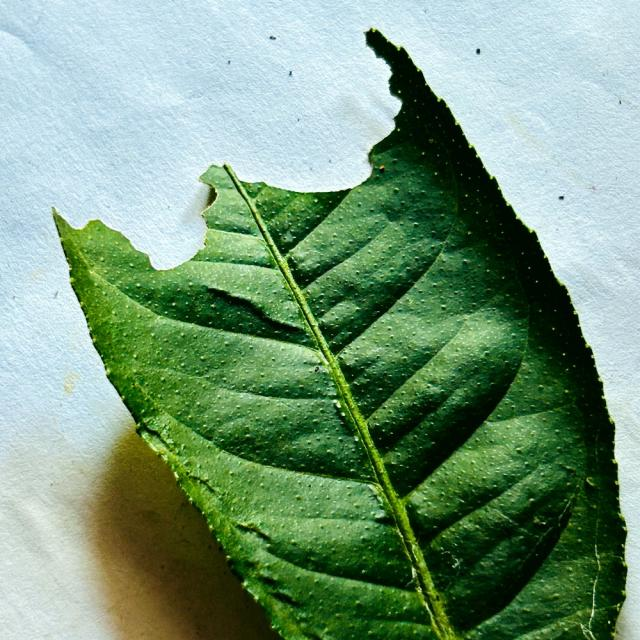Deficiency Leaf: (49, 31, 394, 263)
Lemon: (54, 29, 625, 639)
